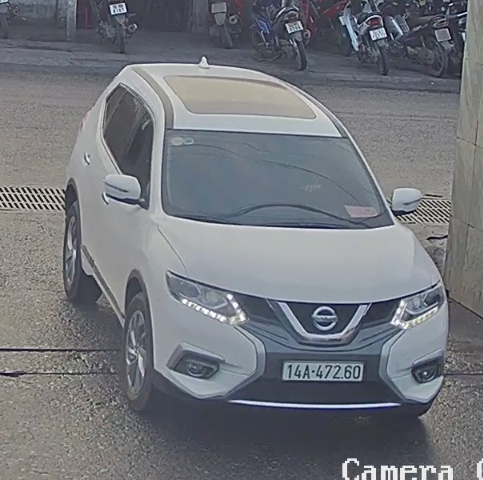vehicle plate: (278, 355, 367, 386)
